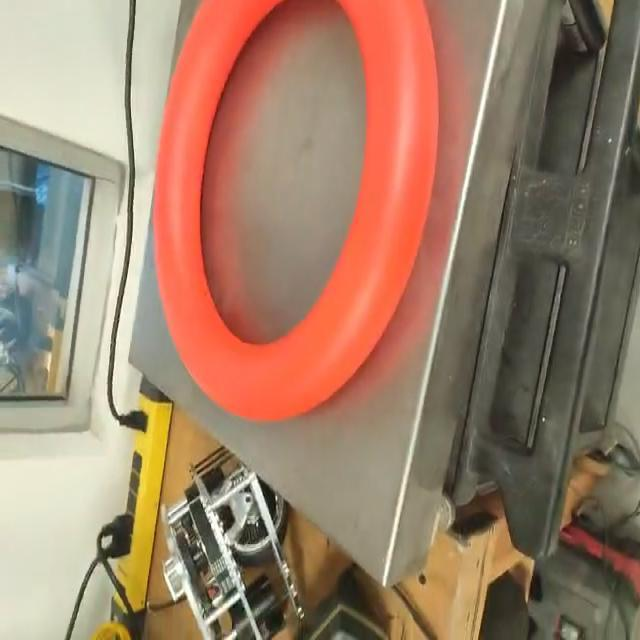note: (148, 0, 442, 428)
